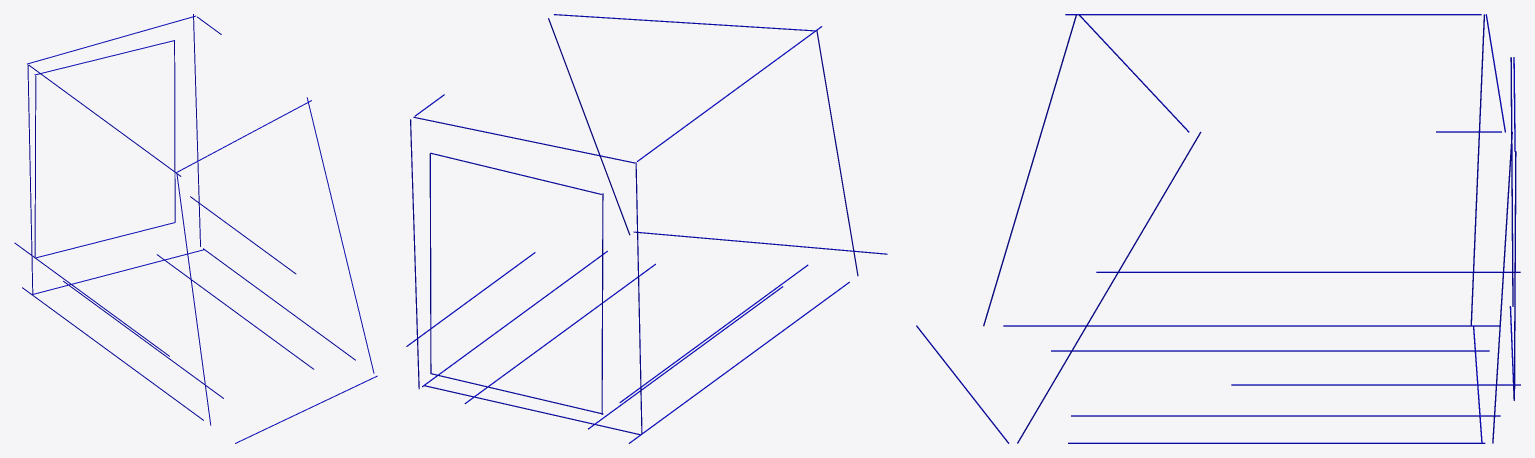
Rendered from corrected_3d_strokes.glb.
3 renders of one model, left to right at view 1: azimuth 30°, elevation 25°; view 2: azimuth 150°, elevation 25°; view 3: azimuth 270°, elevation 25°, orthographic. The views are drawn at different scales.
Parts seen in each view (by area): view 1: world; view 2: world; view 3: world.
Boxes of the visible parts, left/top/right/bottom form: world: left=14, top=14, right=377, bottom=443; world: left=406, top=14, right=887, bottom=443; world: left=916, top=14, right=1520, bottom=443.
Size of the model in its own units: 8.03 by 9.92 by 17.4.
